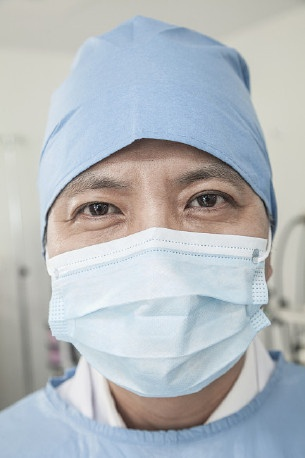Mask: (41, 158, 282, 399)
